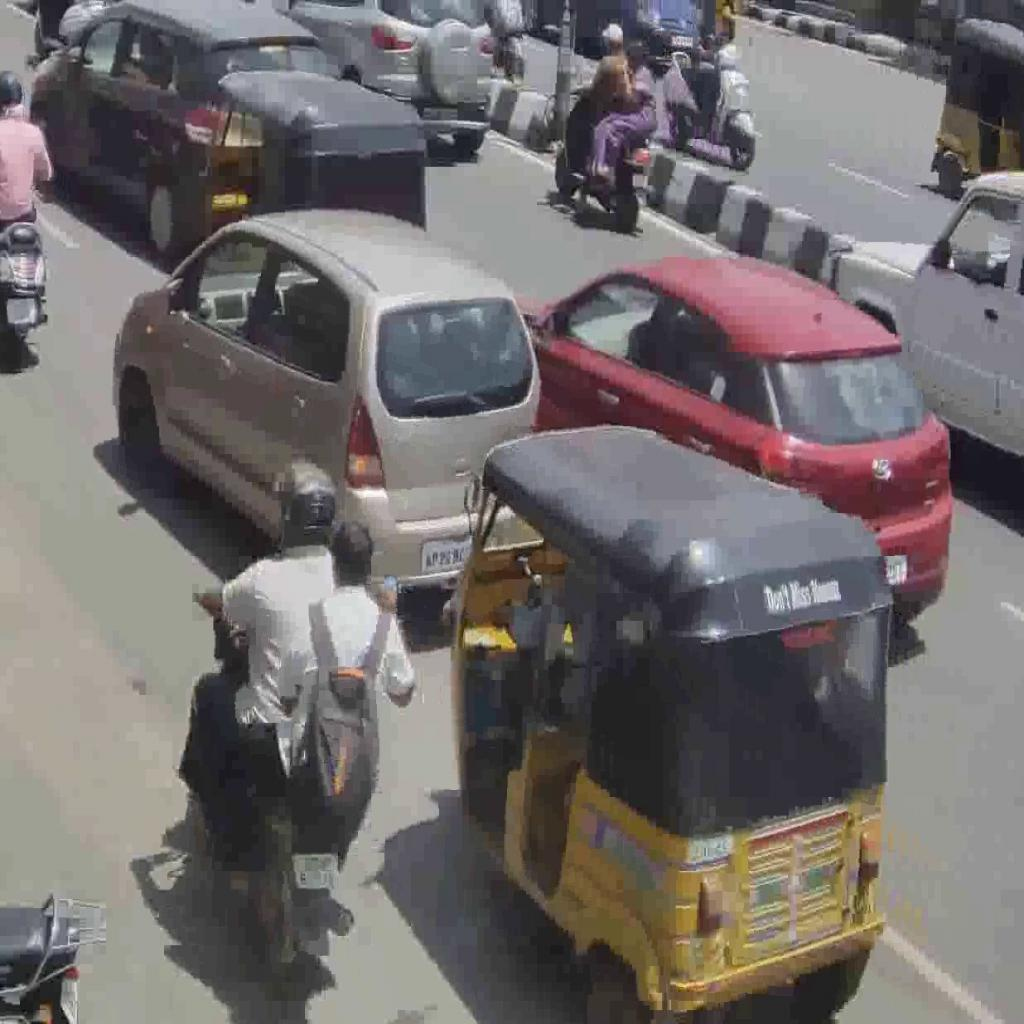helmet: (190, 572, 360, 990), (554, 76, 655, 234), (0, 216, 48, 367)
